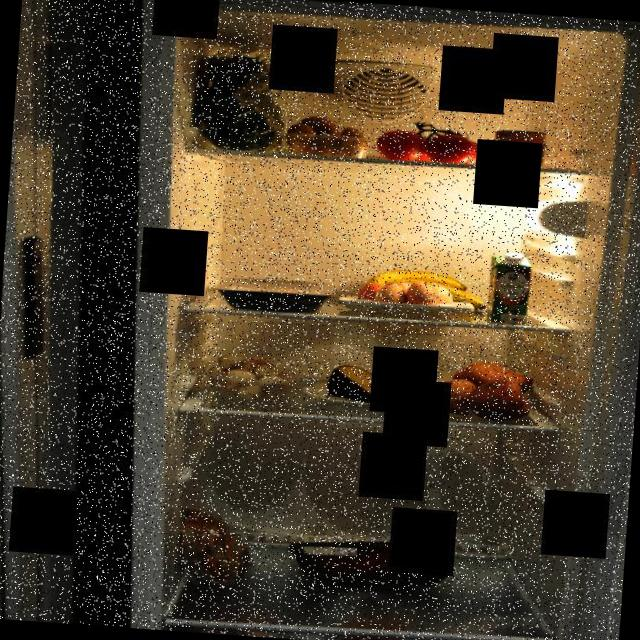Carne vacuno: (282, 529, 460, 599)
Champiñones: (208, 348, 297, 402)
Huevos: (356, 278, 453, 320)
Patata: (278, 111, 374, 160)
Plátano: (362, 264, 491, 314)
Queso: (322, 360, 412, 408)
Tomate: (374, 104, 484, 166)
